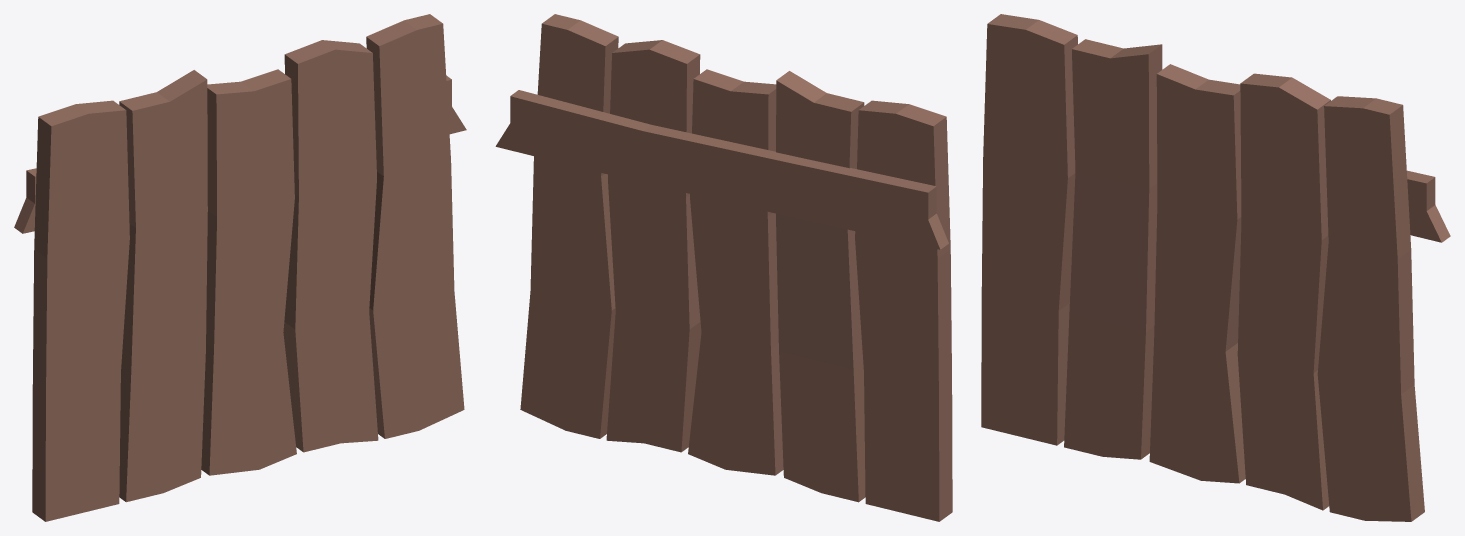
File: WoodenFence_02.fbx
3 views of the same model, side by side, from view 1: azimuth 30°, elevation 25°; view 2: azimuth 150°, elevation 25°; view 3: azimuth 330°, elevation 25° (orthographic). The views are drawn at different scales.
Parts seen in each view (by area): view 1: WoodenFence_02; view 2: WoodenFence_02; view 3: WoodenFence_02.
Boxes of the visible parts, x1,y1,x2,y2 form: WoodenFence_02: (14,14,466,521); WoodenFence_02: (495,14,952,521); WoodenFence_02: (981,14,1450,521).
Size of the model in its own units: 326 by 282 by 28.25.
